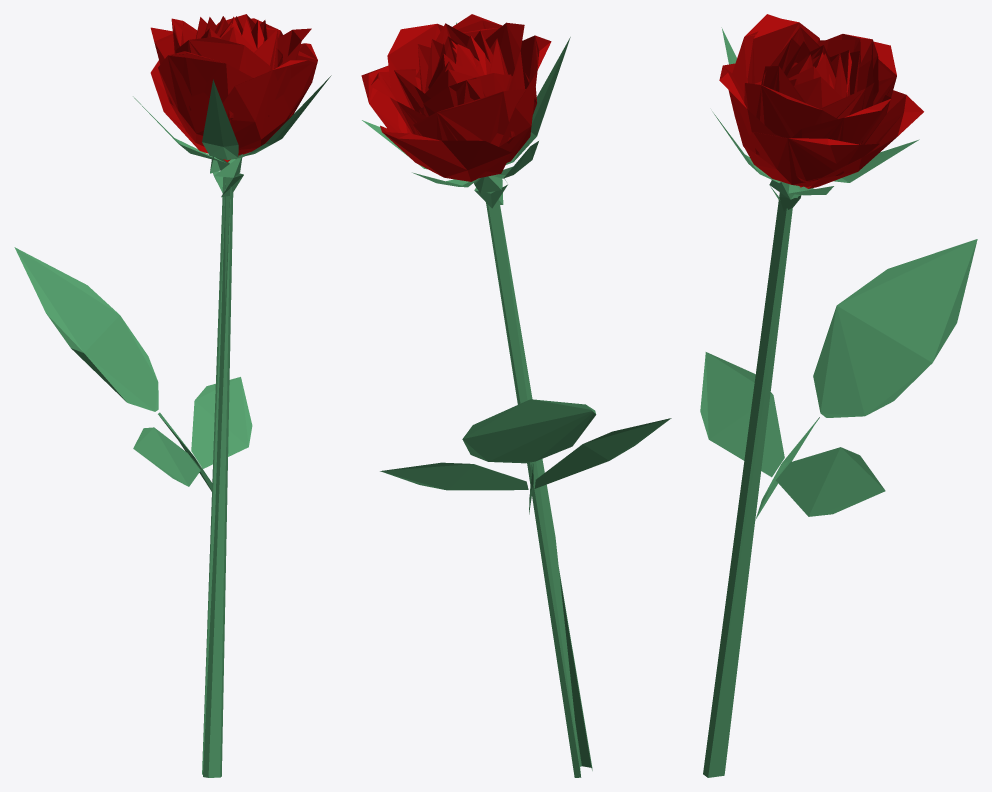
The model's file is rose 1 red 2.glb.
3 views of the same model, side by side, from view 1: azimuth 30°, elevation 25°; view 2: azimuth 150°, elevation 25°; view 3: azimuth 270°, elevation 25° (orthographic). The views are drawn at different scales.
Visible parts, largest first — view 1: node-0; view 2: node-0; view 3: node-0.
Part boxes in pixels (<box>): node-0: <box>14,14,331,777</box>; node-0: <box>361,14,671,777</box>; node-0: <box>700,14,977,777</box>.
Bounding box in the file's own units: 160 × 461 × 150.
